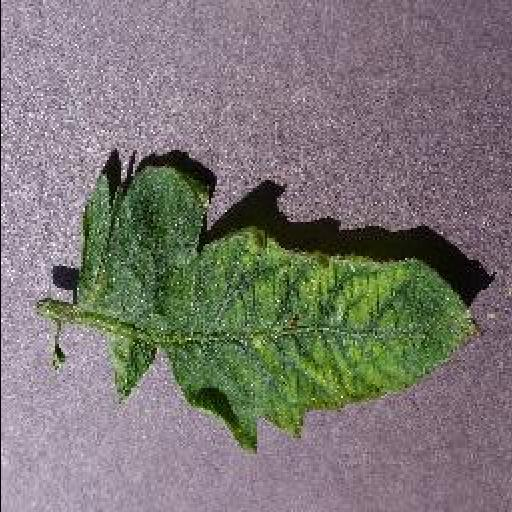disease_tomato: (68, 166, 484, 458)
